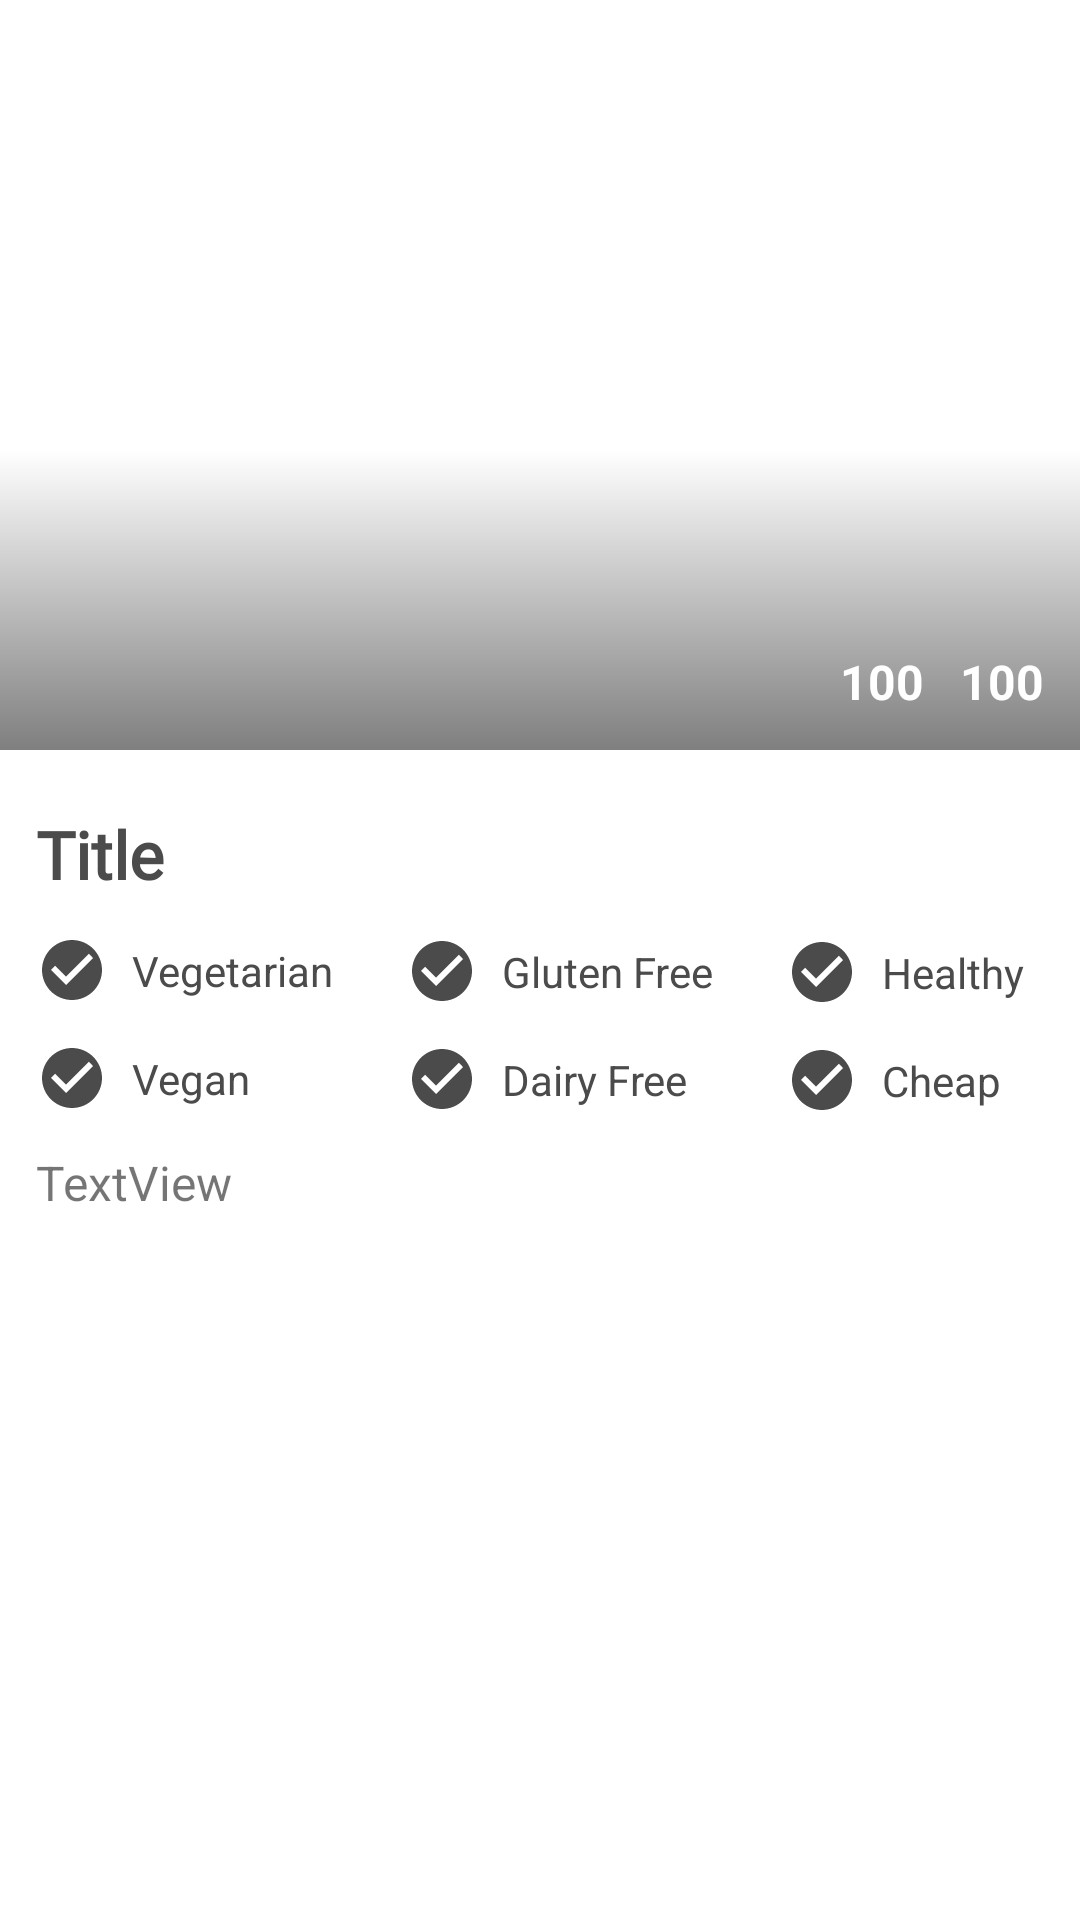

Icon bounding boxes for this 1080px×1920px phone screenshot, format (x1=x1, y1=y1, x2=x2, y2=y2):
checkmark: (x1=42, y1=940, x2=102, y2=1000), (x1=412, y1=941, x2=472, y2=1001), (x1=792, y1=942, x2=852, y2=1002), (x1=42, y1=1048, x2=102, y2=1108), (x1=412, y1=1049, x2=472, y2=1109), (x1=792, y1=1050, x2=852, y2=1110)
